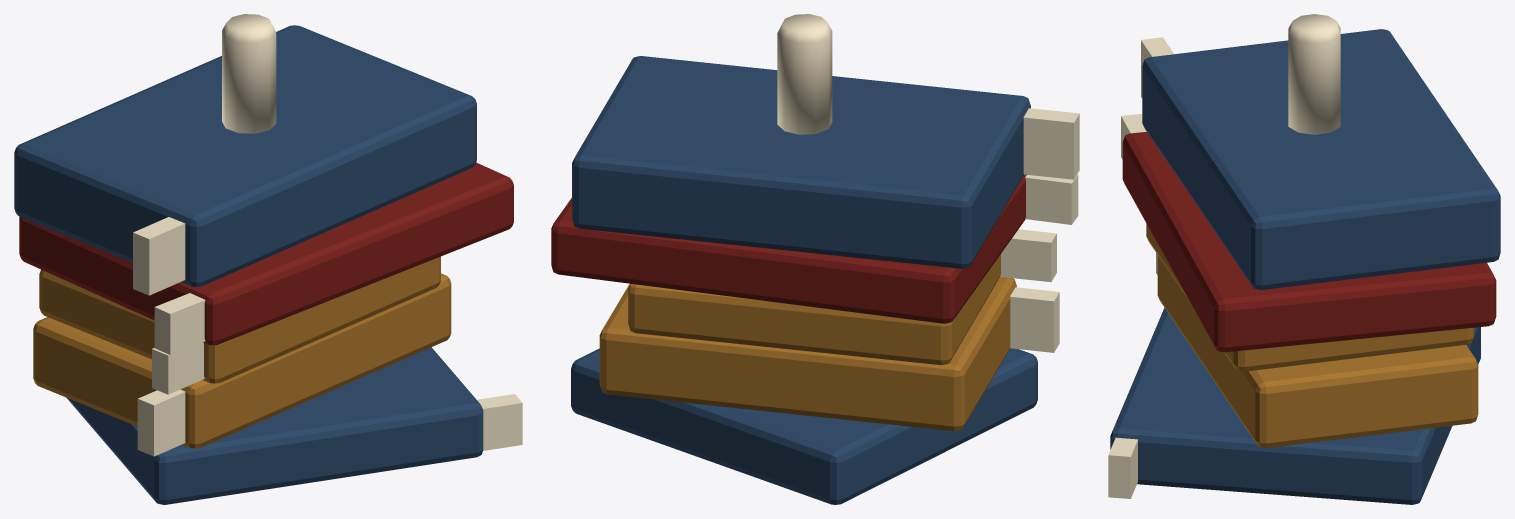
File: book_stack.glb
3 renders of one model, left to right at view 1: azimuth 30°, elevation 25°; view 2: azimuth 150°, elevation 25°; view 3: azimuth 270°, elevation 25°, orthographic.
Visible parts, largest first — view 1: book_stack; view 2: book_stack; view 3: book_stack.
Boxes of the visible parts, x1,y1,x2,y2 form: book_stack: [14, 14, 522, 504]; book_stack: [551, 14, 1079, 504]; book_stack: [1108, 14, 1500, 504].
Size of the model in its own units: 1.06 by 0.9538 by 0.857.
